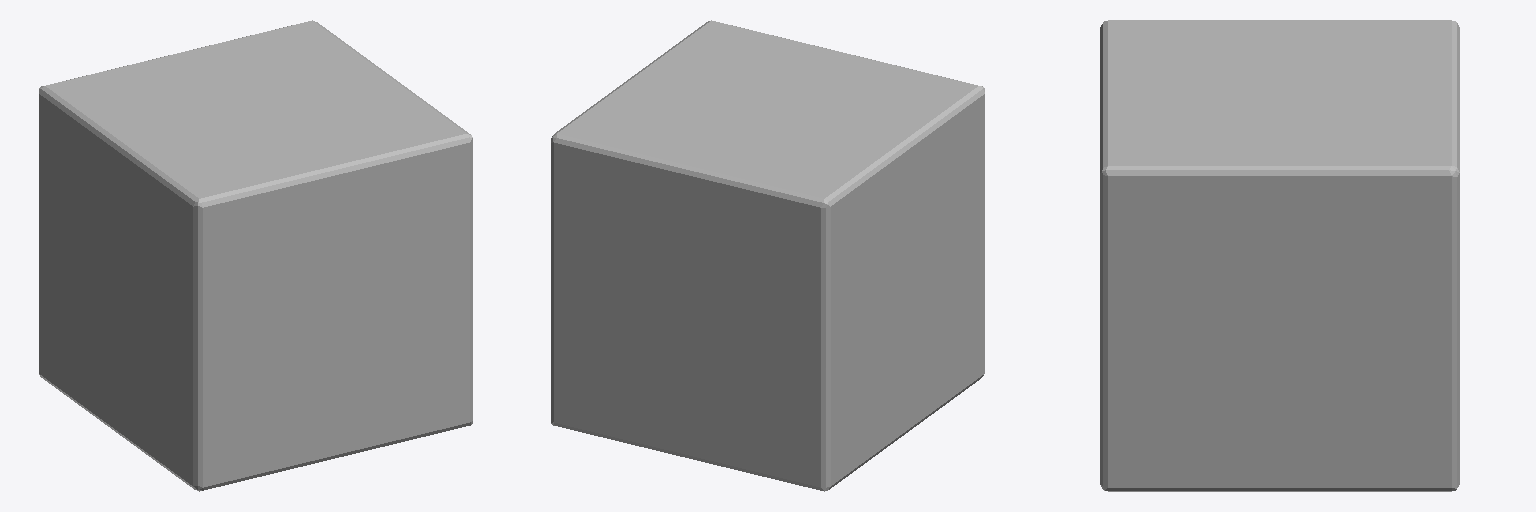
URDF robot description (root):
<robot name="root">
  <link name="link_coacd_convex_piece_0">
    <inertial>
      <origin xyz="0 0 0" rpy="0 0 0"/>
      <mass value="1.41E+00"/>
      <inertia ixx="3.06E-01" ixy="1.38E-06" ixz="1.38E-06" iyy="3.06E-01" iyz="1.38E-06" izz="3.06E-01"/>
    </inertial>
    <visual>
      <origin xyz="0 0 0" rpy="0 0 0"/>
      <geometry>
        <mesh filename="coacd_convex_piece_0.obj" scale="1.0000E+00 1.0000E+00 1.0000E+00"/>
      </geometry>
      <material name="">
        <color rgba="7.50E-01 7.50E-01 7.50E-01 1"/>
      </material>
    </visual>
    <collision>
      <origin xyz="0 0 0" rpy="0 0 0"/>
      <geometry>
        <mesh filename="coacd_convex_piece_0.obj" scale="1.0000E+00 1.0000E+00 1.0000E+00"/>
      </geometry>
    </collision>
  </link>
</robot>

--- Facts derived from the render (not from the file) ---
Views: 3 orthographic renders of the robot side by side, from view 1: azimuth 30°, elevation 25°; view 2: azimuth 150°, elevation 25°; view 3: azimuth 270°, elevation 25°.
Model root with 1 links and 0 joints (none), rooted at link_coacd_convex_piece_0, posed all joints at 0.
Links seen in each view (by area): view 1: link_coacd_convex_piece_0; view 2: link_coacd_convex_piece_0; view 3: link_coacd_convex_piece_0.
Boxes of the visible links, x1,y1,x2,y2 form: link_coacd_convex_piece_0: [39, 20, 472, 491]; link_coacd_convex_piece_0: [551, 20, 984, 491]; link_coacd_convex_piece_0: [1100, 20, 1459, 491].
Bounding box of the posed robot: 1.14 × 1.14 × 1.14 m (x, y, z).
Meshes: 1 distinct files referenced, 1 mesh visuals loaded (1 OBJ).